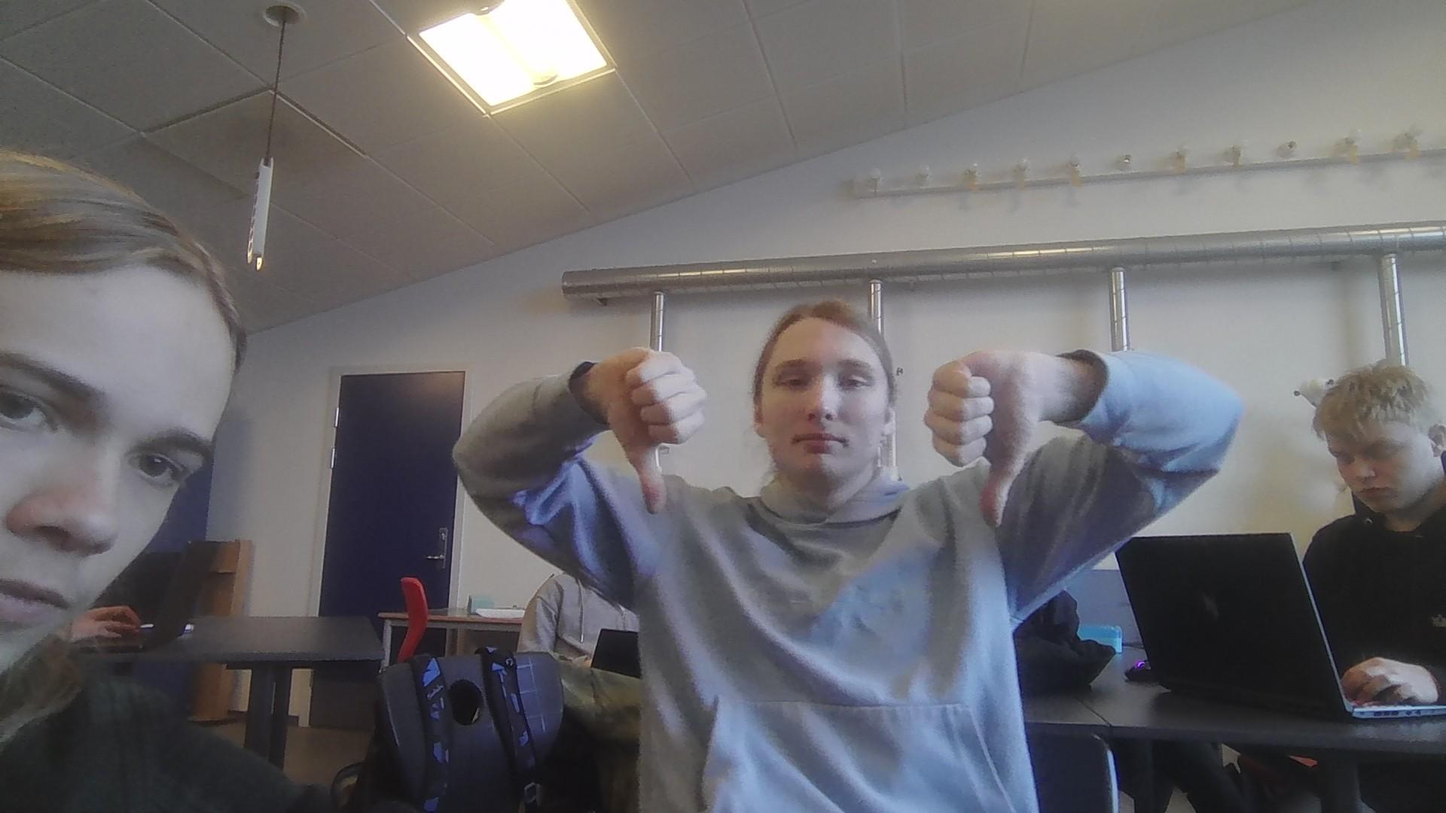thumbs down: (915, 346, 1056, 527), (591, 339, 713, 520)
